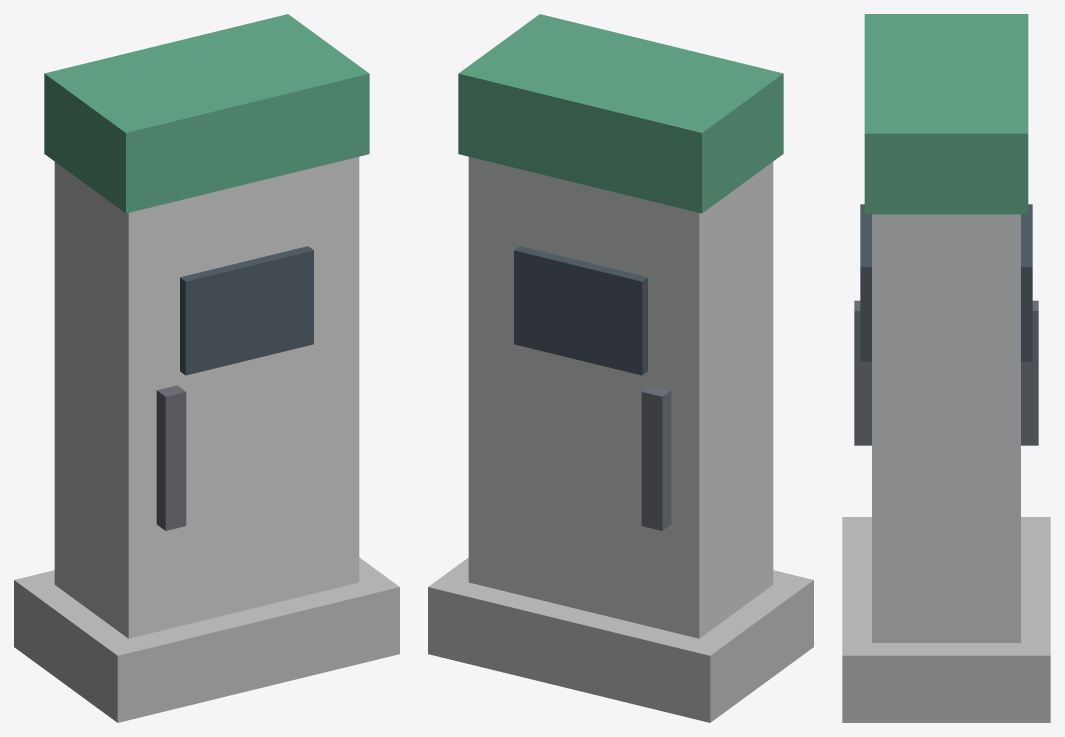
File: fuel_pump.glb
3 views of the same model, side by side, from view 1: azimuth 30°, elevation 25°; view 2: azimuth 150°, elevation 25°; view 3: azimuth 270°, elevation 25° (orthographic).
Parts seen in each view (by area): view 1: fuel_pump; view 2: fuel_pump; view 3: fuel_pump.
Boxes of the visible parts, left/top/right/bottom form: fuel_pump: left=14, top=14, right=399, bottom=722; fuel_pump: left=428, top=14, right=813, bottom=722; fuel_pump: left=842, top=14, right=1050, bottom=722.
Size of the model in its own units: 1.1 by 2.15 by 0.7.
